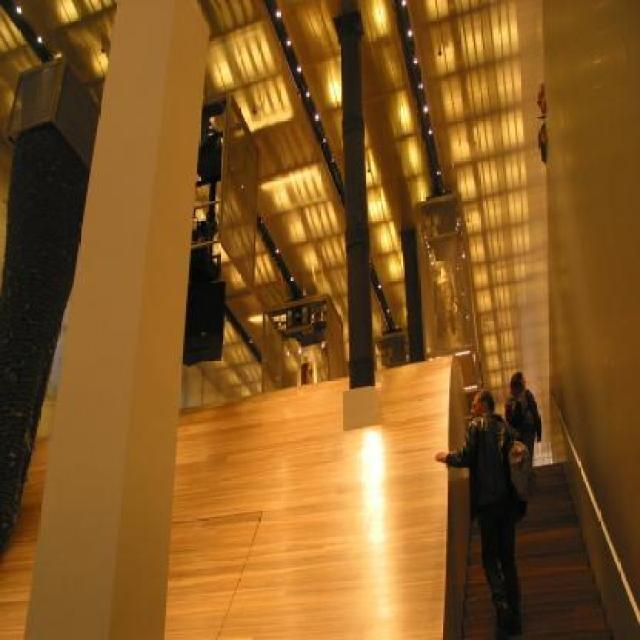stair: (460, 463, 616, 640)
